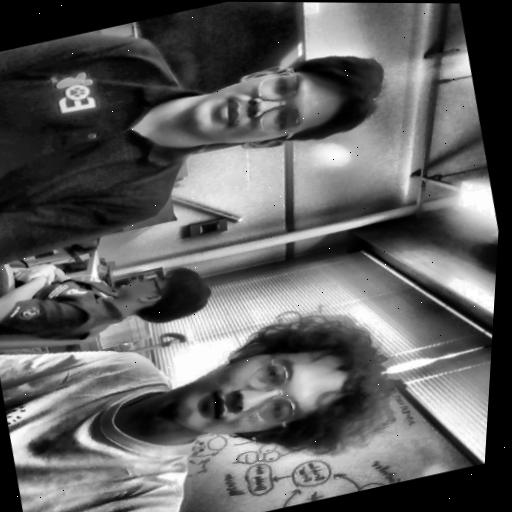Daifuku: (153, 296, 420, 482)
Not Daifuku: (187, 40, 401, 167), (105, 254, 224, 335)
